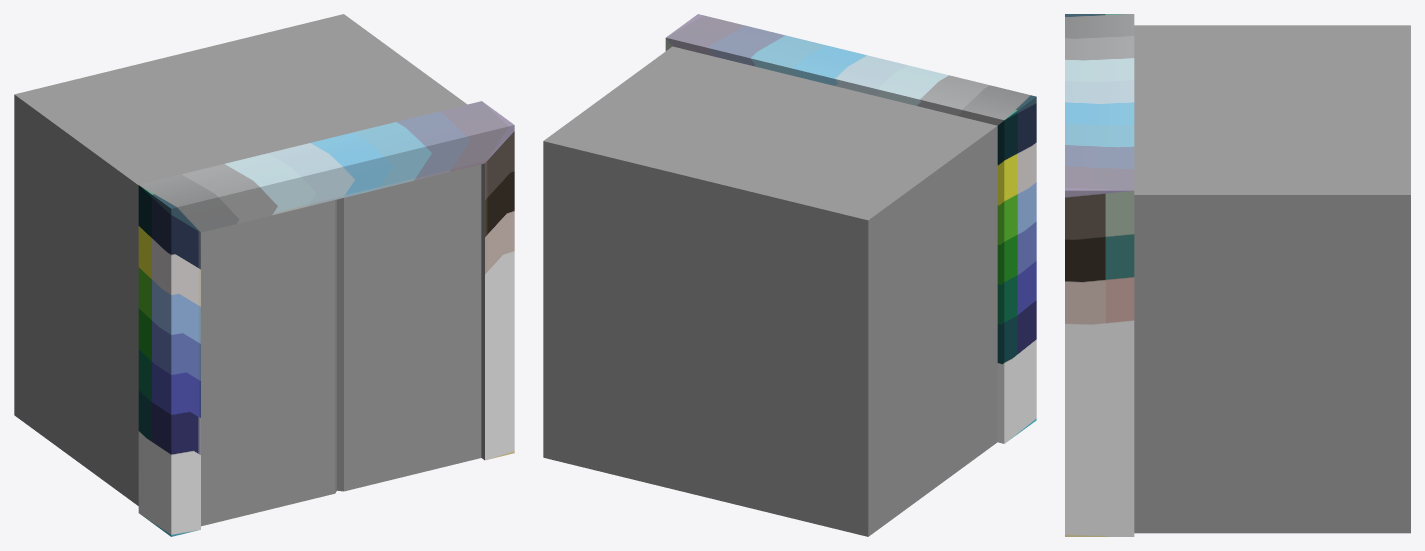
The model's file is door.fbx.
3 renders of one model, left to right at view 1: azimuth 30°, elevation 25°; view 2: azimuth 150°, elevation 25°; view 3: azimuth 270°, elevation 25°, orthographic. The views are drawn at different scales.
Parts seen in each view (by area): view 1: door, R_door, L_door; view 2: door; view 3: door.
Part boxes in pixels (left/top/right/bottom): door: left=14, top=14, right=514, bottom=536; R_door: left=337, top=164, right=481, bottom=491; L_door: left=201, top=199, right=336, bottom=526; door: left=543, top=14, right=1036, bottom=536; door: left=1065, top=14, right=1410, bottom=536.
Bounding box in the file's own units: 1337 × 1222 × 1106.
